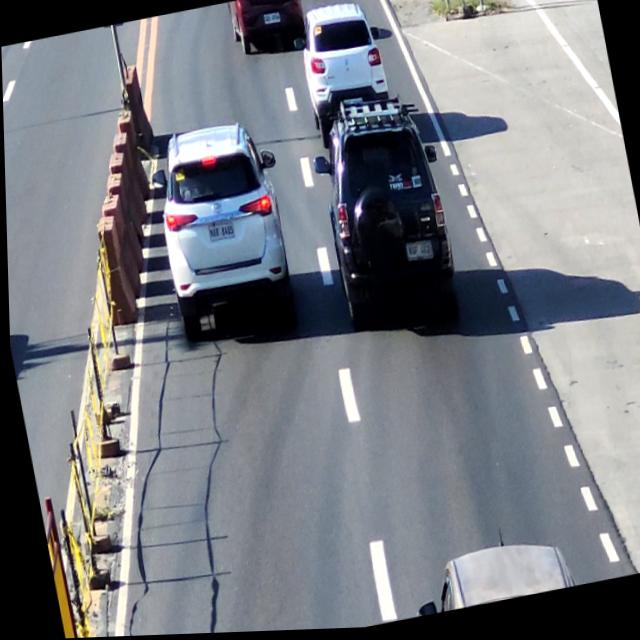Car: (305, 88, 468, 345), (144, 111, 296, 341), (403, 536, 578, 620), (290, 3, 391, 125)
License-Plate: (202, 217, 239, 254), (400, 237, 435, 270), (261, 11, 283, 33)
